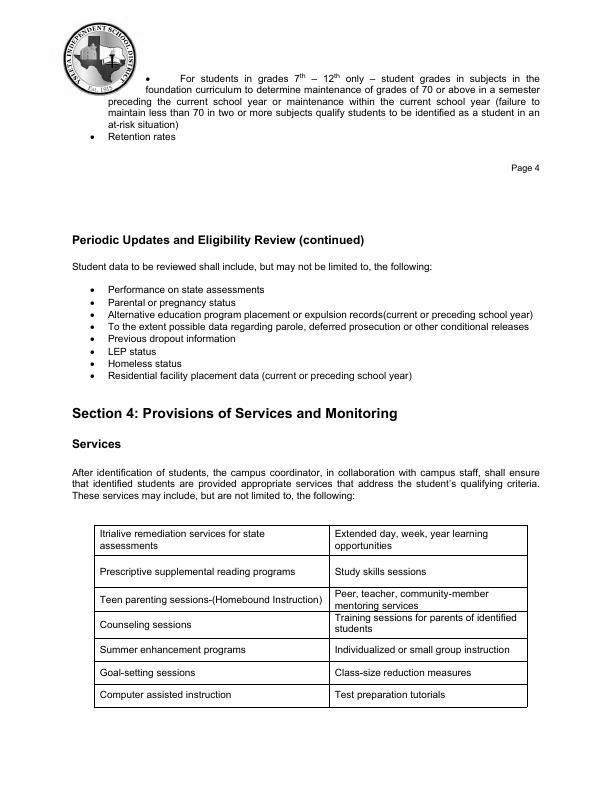table: (86, 517, 535, 713)
text: (68, 259, 541, 389), (106, 70, 547, 148), (68, 462, 545, 509), (63, 405, 403, 426), (67, 230, 370, 250), (70, 435, 127, 453)
